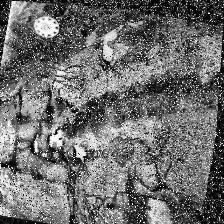pothole: (115, 184, 207, 224), (47, 58, 89, 108), (96, 19, 126, 63), (45, 125, 69, 151), (30, 131, 44, 155), (72, 142, 90, 160)
